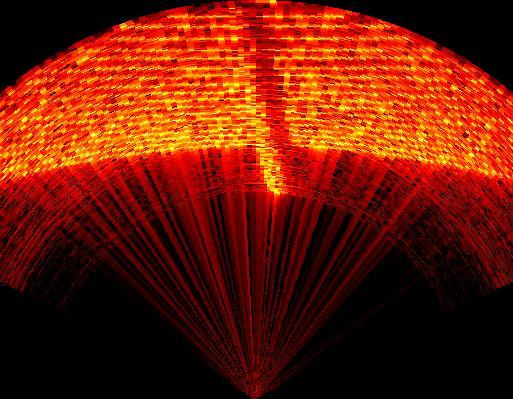pipe: (235, 1, 301, 188)
